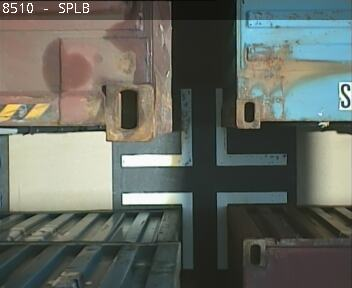groundmarker_1: (121, 89, 286, 168), (121, 191, 286, 269)
